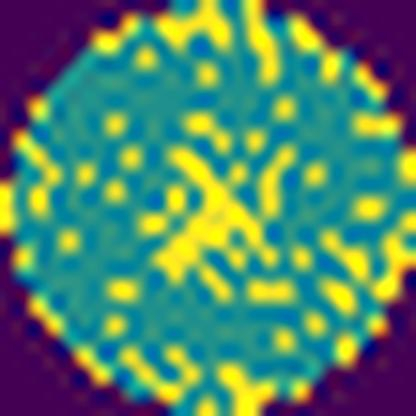Center: (139, 142, 282, 302)
